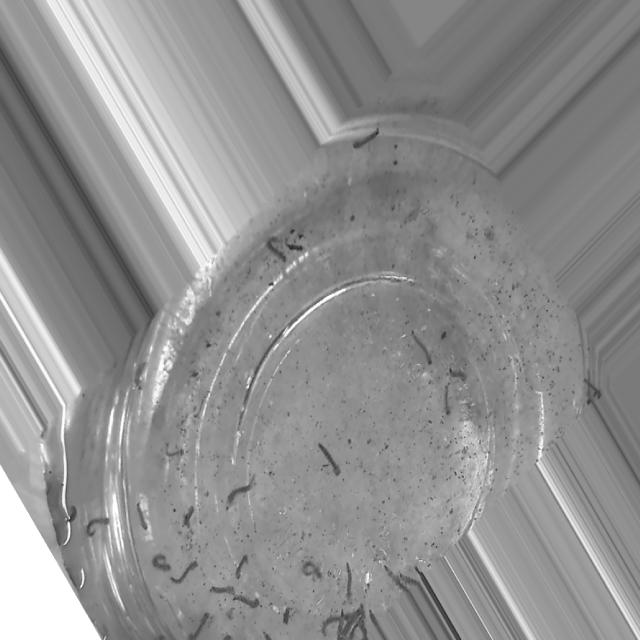larvas: (317, 609, 363, 635), (227, 474, 256, 504), (411, 332, 432, 366), (172, 560, 198, 586), (319, 445, 340, 476), (189, 612, 211, 637), (267, 234, 285, 263), (354, 130, 378, 150), (582, 374, 602, 396), (86, 517, 108, 537), (345, 608, 359, 637), (195, 393, 210, 420), (236, 594, 260, 610), (234, 554, 248, 581), (134, 365, 148, 391), (303, 560, 322, 578), (448, 366, 467, 383), (165, 443, 185, 458), (384, 564, 401, 581), (154, 554, 169, 572), (443, 385, 451, 417), (138, 504, 147, 530), (181, 506, 193, 525), (213, 584, 235, 594), (346, 560, 352, 596), (400, 574, 417, 586), (338, 612, 344, 640), (262, 628, 272, 640), (368, 610, 376, 624)
